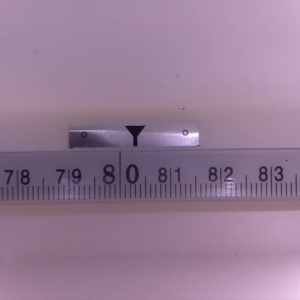0: (125, 163, 139, 183)
2: (223, 167, 233, 182)
3: (273, 166, 283, 182)
7: (54, 169, 65, 184), (3, 169, 13, 185)
8: (102, 164, 114, 184), (207, 167, 218, 182), (20, 169, 30, 185), (158, 167, 168, 183), (257, 166, 267, 182)
9: (70, 168, 81, 184)
finger: (123, 125, 146, 147)
